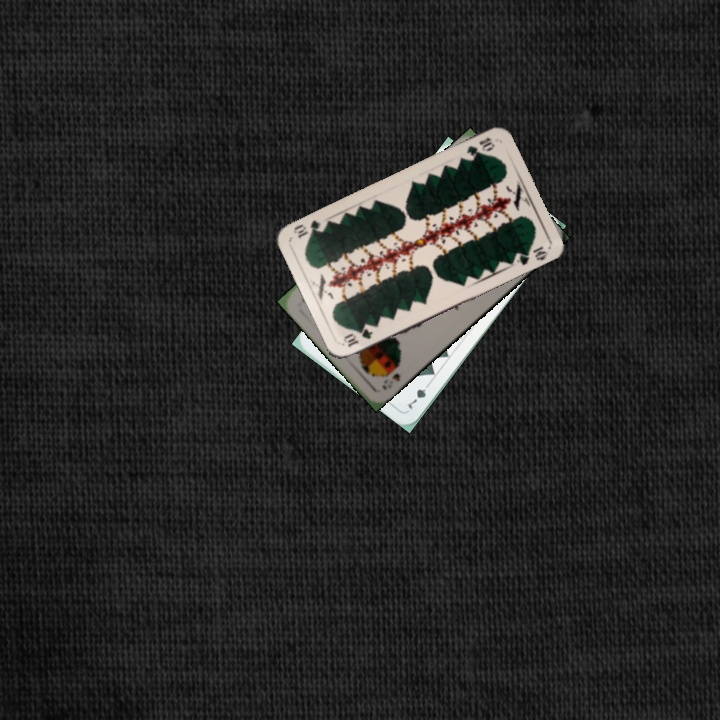G10: (462, 133, 497, 160), (339, 324, 375, 350)
G7: (404, 378, 433, 412)
SO: (378, 369, 403, 393)
